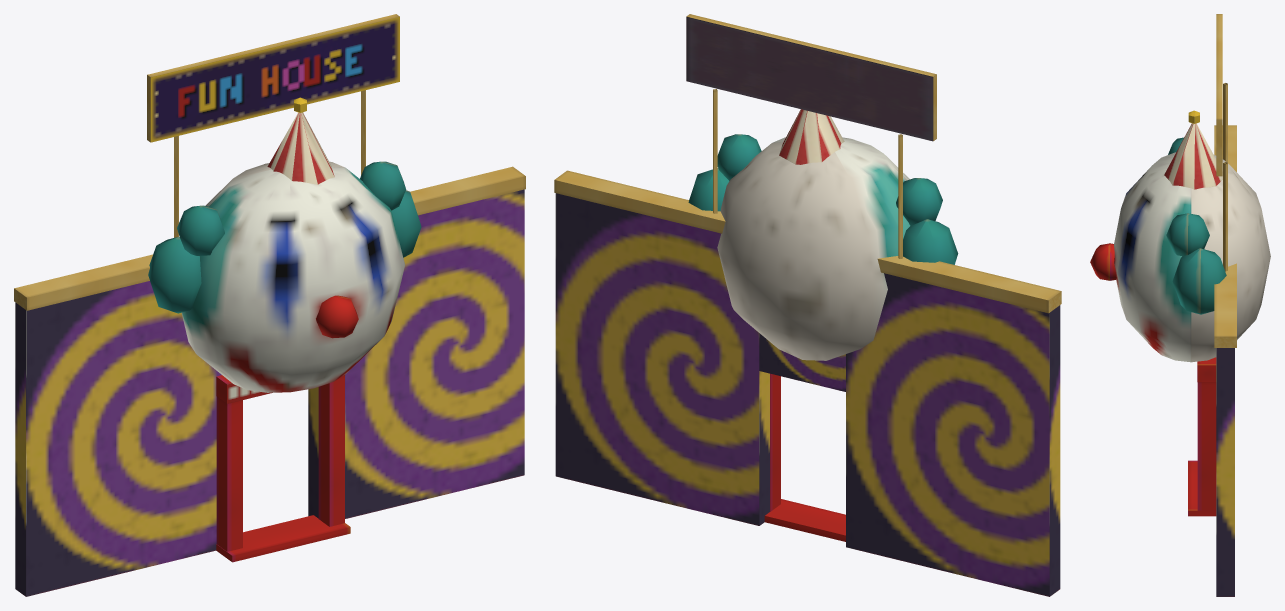
The model's file is fun_house_front.obj.
The picture shows the model from 3 angles, left to right: view 1: azimuth 30°, elevation 25°; view 2: azimuth 150°, elevation 25°; view 3: azimuth 270°, elevation 25°; orthographic projection. The views are drawn at different scales.
Parts seen in each view (by area): view 1: fun_house_front, fun_house_front_right, fun_house_front_head, fun_house_front_sign, fun_house_front_lips, fun_house_front_lip_low; view 2: fun_house_front, fun_house_front_right, fun_house_front_head, fun_house_front_sign, fun_house_front_lintel, fun_house_front_lip_low, fun_house_front_lips; view 3: fun_house_front_head, fun_house_front_right, fun_house_front_lips, fun_house_front_sign, fun_house_front_lip_low, fun_house_front.
Part boxes in pixels (x1=…): fun_house_front: x1=14, y1=254, x2=221, y2=596; fun_house_front_right: x1=308, y1=166, x2=525, y2=518; fun_house_front_head: x1=148, y1=97, x2=421, y2=392; fun_house_front_sign: x1=147, y1=14, x2=399, y2=237; fun_house_front_lips: x1=216, y1=374, x2=345, y2=551; fun_house_front_lip_low: x1=216, y1=515, x2=350, y2=562; fun_house_front: x1=846, y1=256, x2=1061, y2=596; fun_house_front_right: x1=554, y1=170, x2=769, y2=525; fun_house_front_head: x1=688, y1=109, x2=958, y2=360; fun_house_front_sign: x1=686, y1=14, x2=936, y2=258; fun_house_front_lintel: x1=759, y1=333, x2=845, y2=391; fun_house_front_lip_low: x1=764, y1=499, x2=845, y2=541; fun_house_front_lips: x1=770, y1=373, x2=780, y2=511; fun_house_front_head: x1=1090, y1=110, x2=1270, y2=362; fun_house_front_right: x1=1214, y1=263, x2=1236, y2=596; fun_house_front_lips: x1=1197, y1=357, x2=1216, y2=510; fun_house_front_sign: x1=1216, y1=14, x2=1227, y2=271; fun_house_front_lip_low: x1=1188, y1=460, x2=1216, y2=516; fun_house_front: x1=1214, y1=125, x2=1236, y2=171.
Size of the model in its own units: 8 by 7.5 by 2.9.
1 material, 1 textured.
